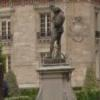Statue: (28, 2, 83, 77)
